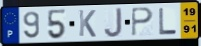5: (46, 8, 67, 40)
9: (22, 11, 41, 39)
J: (103, 7, 124, 39)
K: (78, 9, 97, 39)
L: (158, 8, 178, 36)
P: (131, 7, 155, 38)
